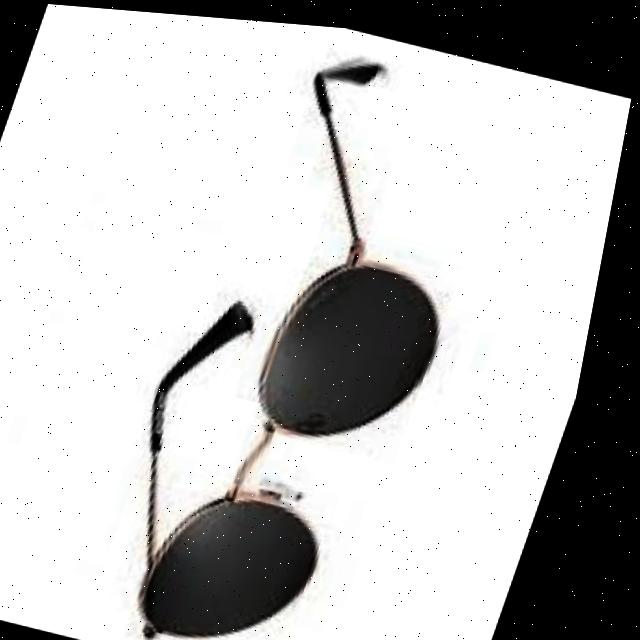gozluk: (137, 203, 468, 640)
